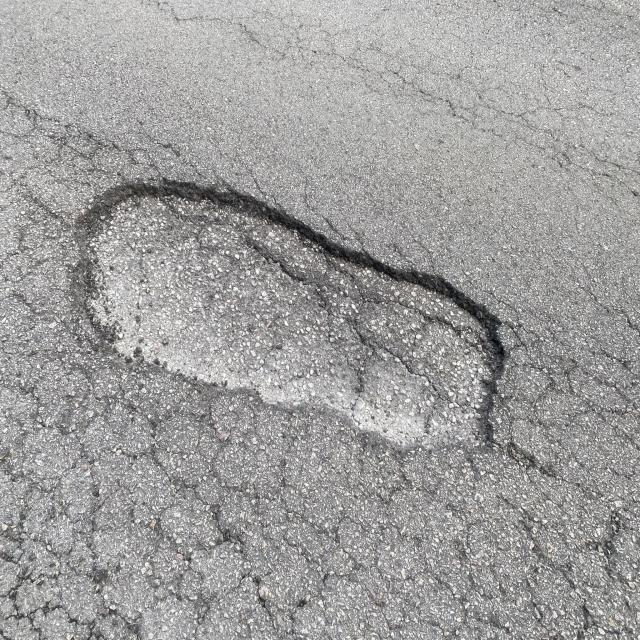pothole: (46, 134, 565, 508)
